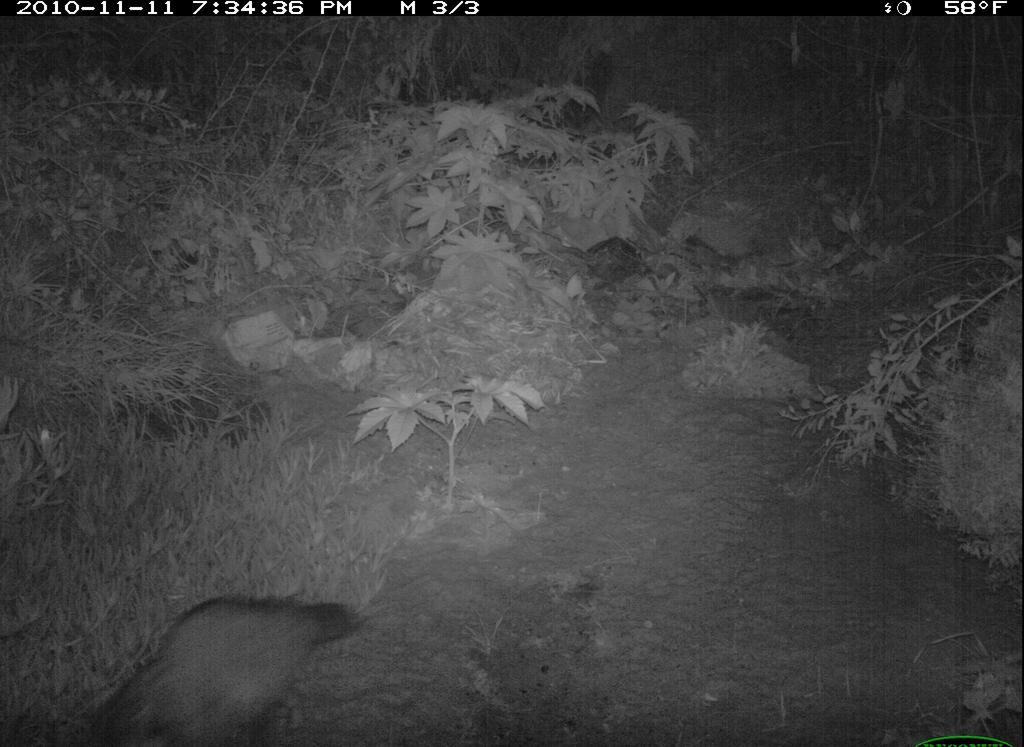raccoon: (70, 574, 385, 747)
